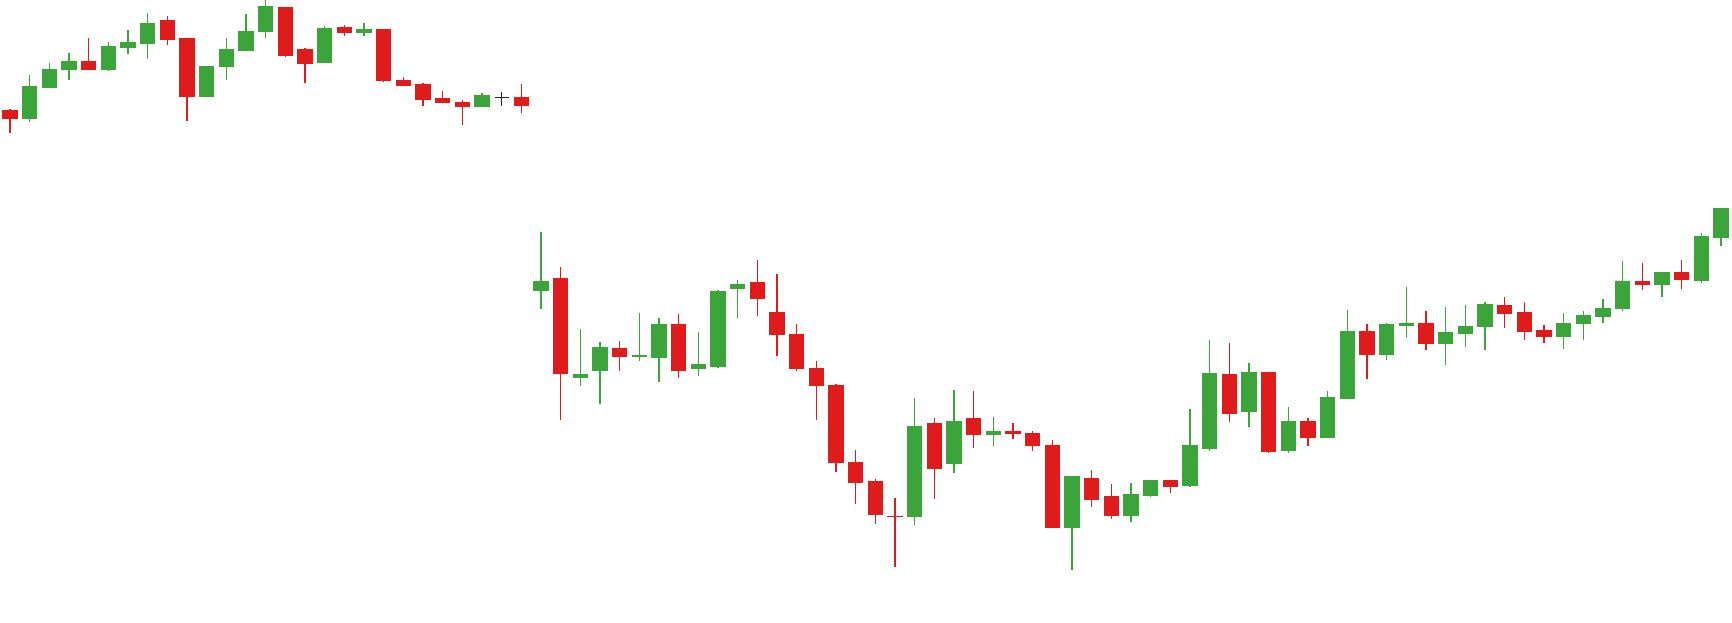buy: (887, 448, 1082, 571)
